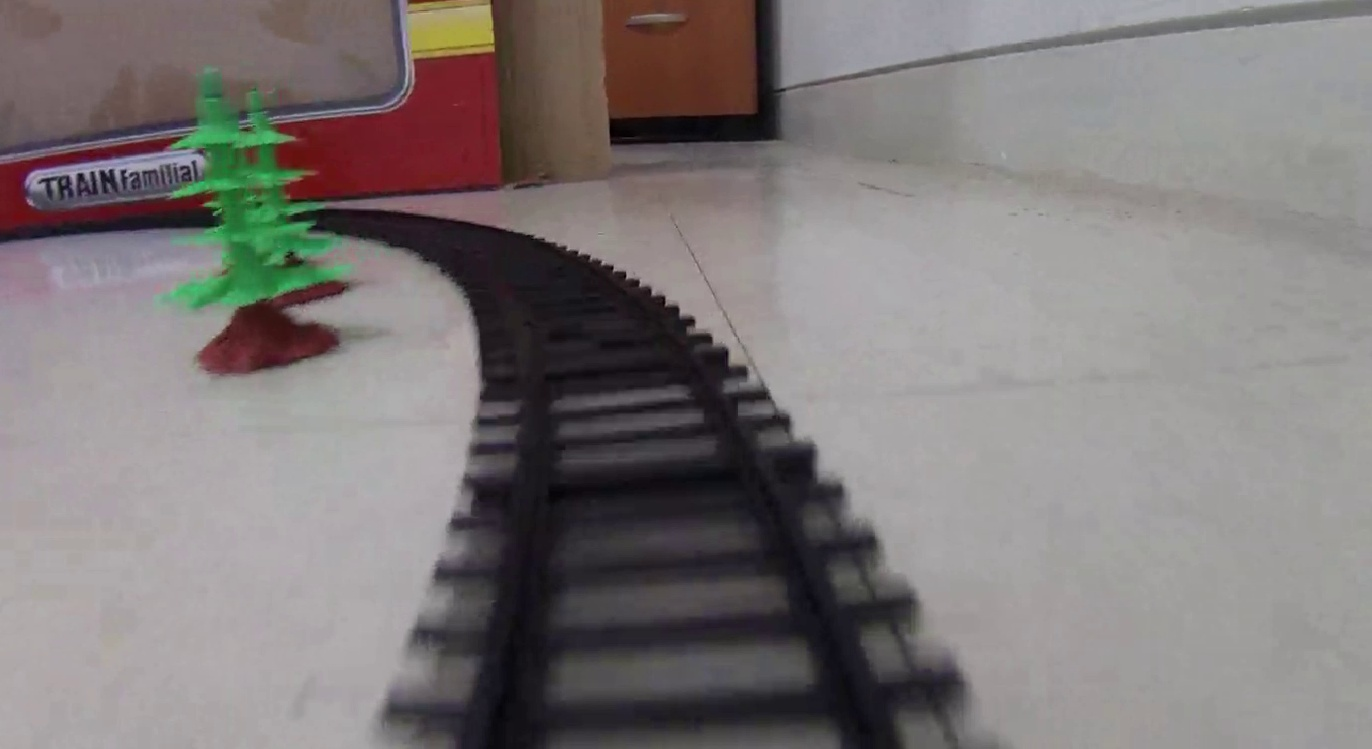tree: (176, 69, 339, 368)
